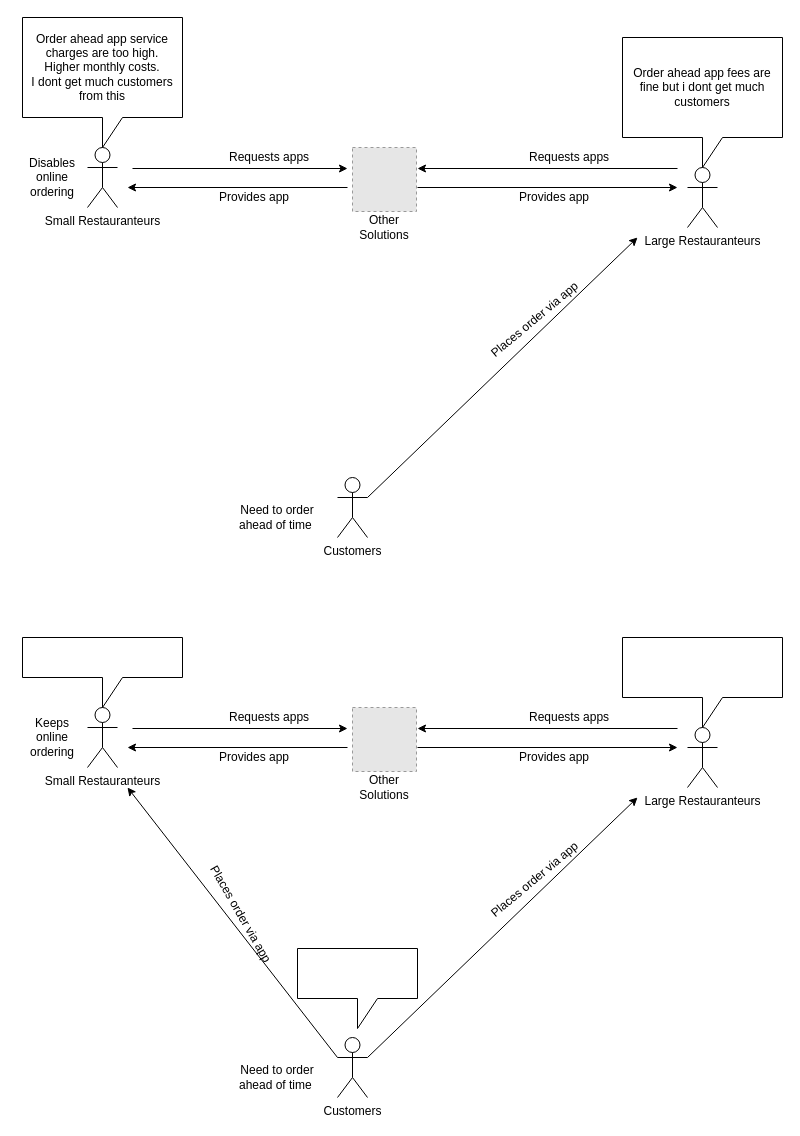
Some shapes in this 800 by 1136 pixel diagram are drawn without their labels. Grey dashed boxes stand in for pictures. Each missing label, with the centre of its shape:
"No monthly costs... Lower service feee..." goes at point 102,672.
"Order ahead app fees are not that much..." goes at point 702,682.
"What place should i choose ?" goes at point 357,988.
